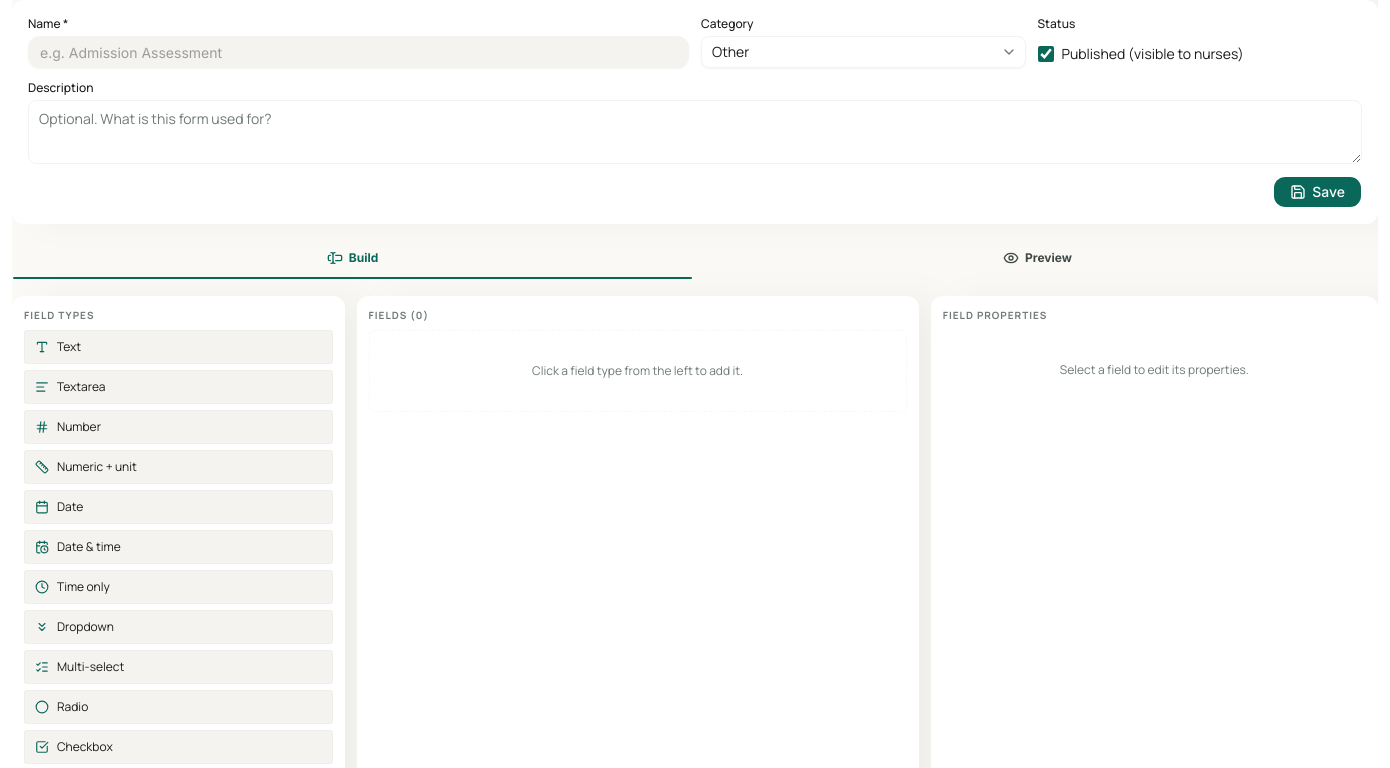
Test case: number_unit in the builder › gives a new measurement field a unit and a unit picker
Click the button "Numeric + unit" at x=97, y=467, box [24,450,332,484]
(page scrolled)
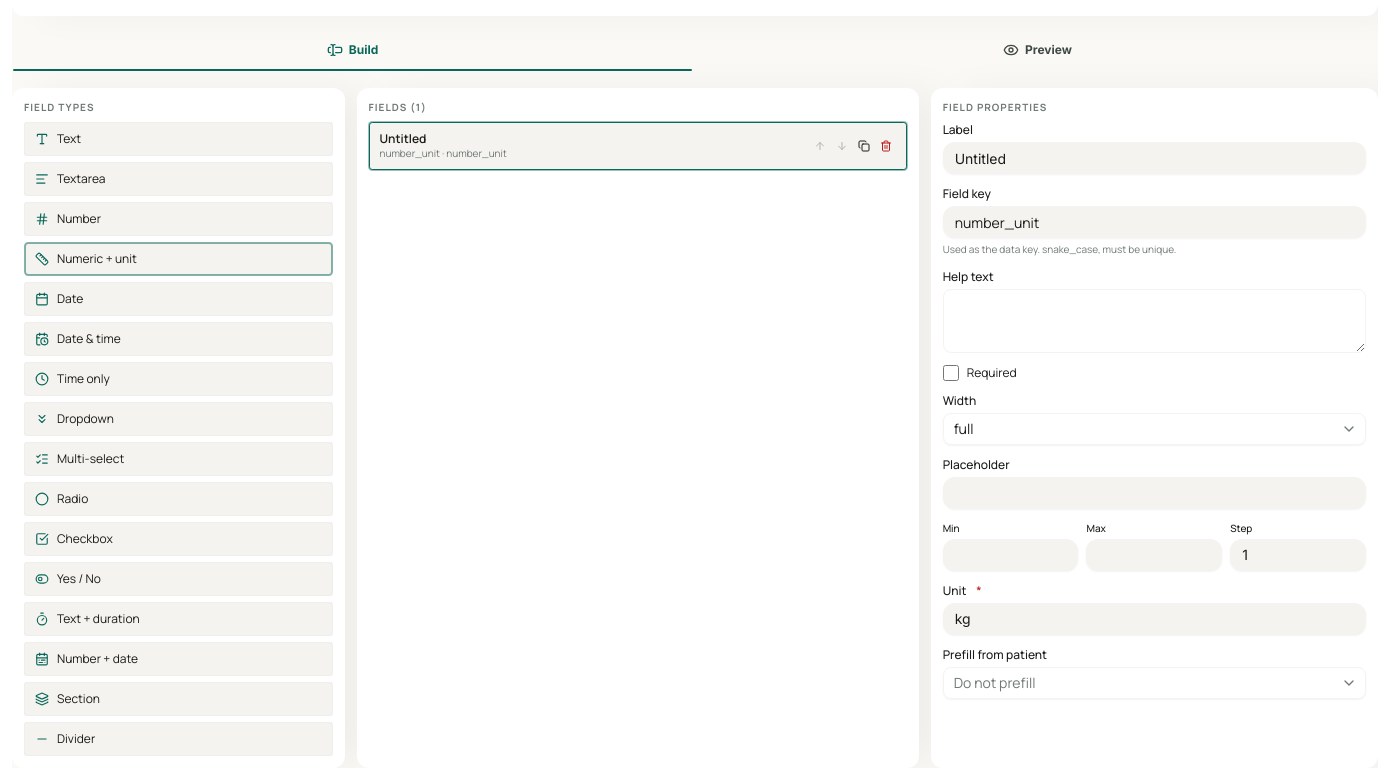
Result: the 4th field showing "kg" is shown at [943,603,1366,635]
